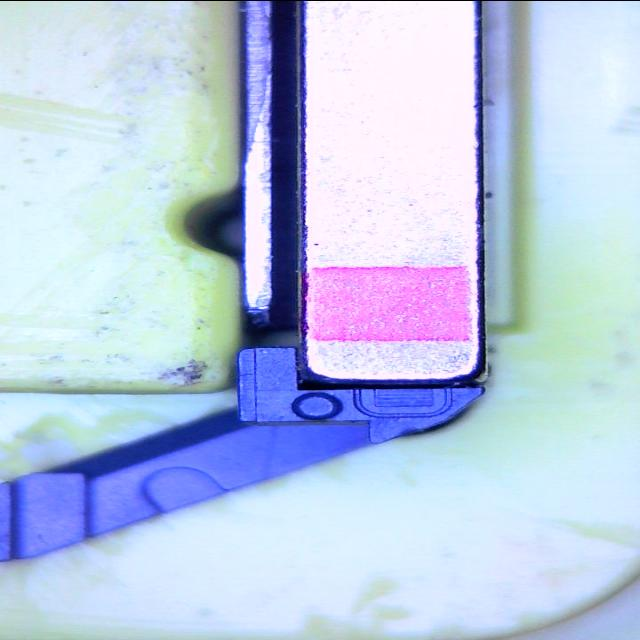noResin: (352, 384, 454, 418)
